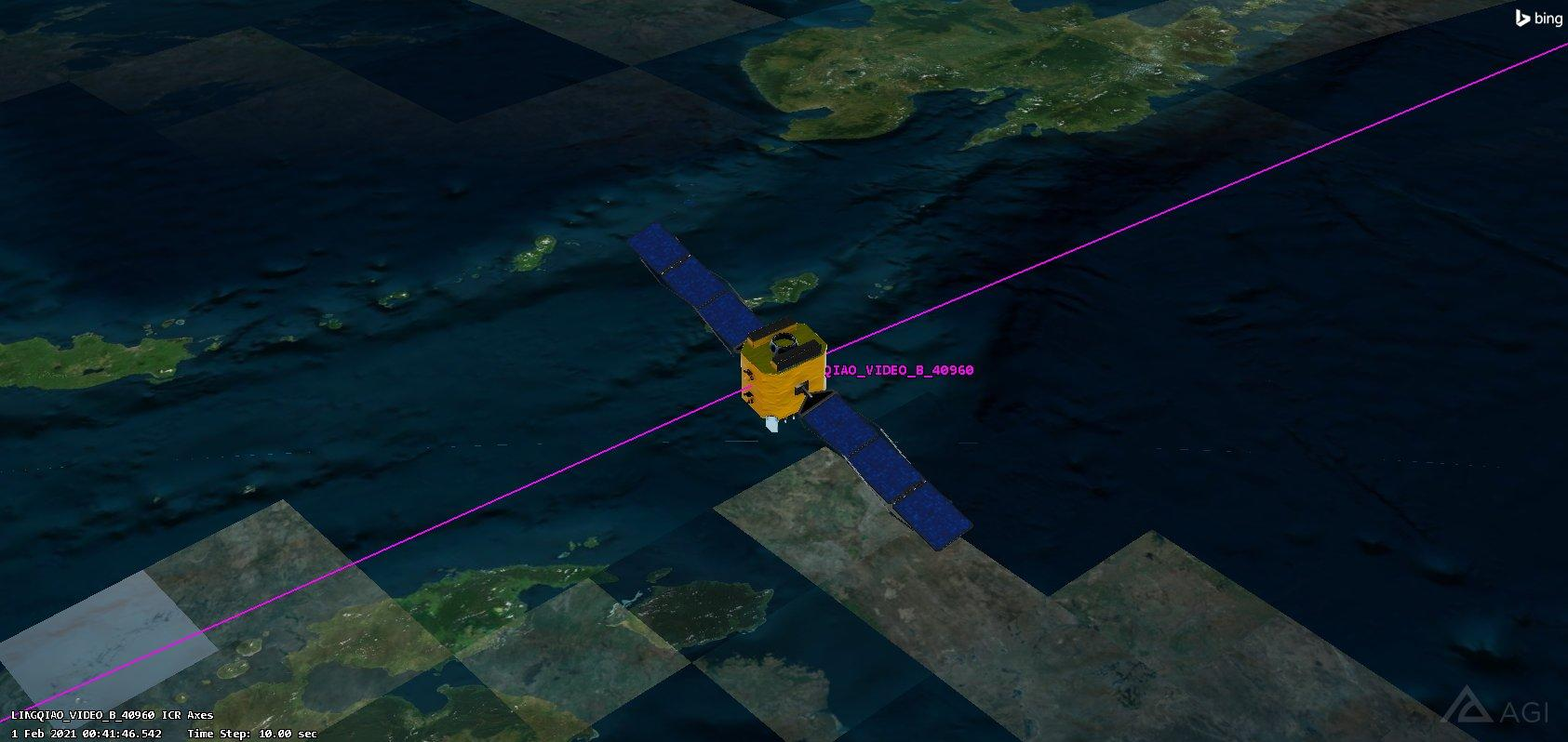body: (740, 320, 830, 422)
solar: (797, 390, 974, 554), (627, 219, 763, 351)
thruster: (768, 328, 802, 354)
